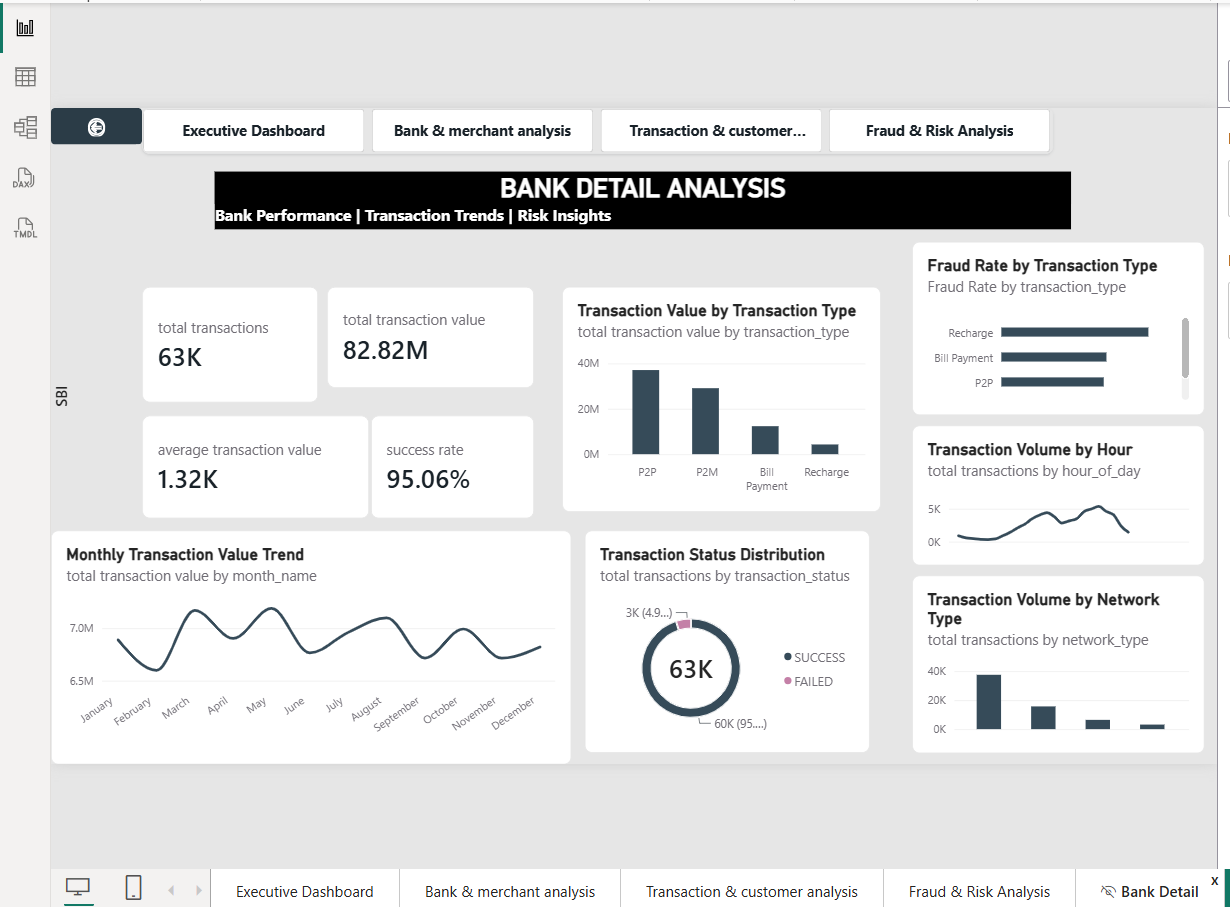

The dashboard page shown, as its layout file describes it:
{"tool":"powerbi","page":{"name":"Bank Detail","canvas":[1280,720],"ordinal":4},"visuals":[{"type":"actionButton","box":[0,0,100,40],"z":0},{"type":"shape","title":"BANK DETAIL ANALYSIS","box":[179.8,70,940,63.1],"z":1000},{"type":"cardVisual","fields":{"Rows":["upi_transactions_cleaned.sender_bank"]},"box":[0,181.1,87.8,270.3],"z":2000},{"type":"cardVisual","fields":{"Data":["upi_transactions_cleaned.total transactions"]},"box":[100.2,196.2,193.5,127.6],"z":3000},{"type":"cardVisual","fields":{"Data":["upi_transactions_cleaned.total transaction value"]},"box":[303.3,196.2,227.8,111.1],"z":4000},{"type":"cardVisual","fields":{"Data":["upi_transactions_cleaned.average transaction value"]},"box":[100.2,337.6,249.7,113.9],"z":5000},{"type":"cardVisual","fields":{"Data":["upi_transactions_cleaned.success rate"]},"box":[351.3,337.6,179.8,113.9],"z":6000},{"type":"actionButton","box":[0,0,100,40],"z":7000},{"type":"lineChart","title":"Monthly Transaction Value Trend","fields":{"Category":["upi_transactions_cleaned.month_name"],"Y":["upi_transactions_cleaned.total transaction value"]},"box":[0,463.8,570.8,256.6],"z":8000},{"type":"donutChart","title":"Transaction Status Distribution","fields":{"Category":["upi_transactions_cleaned.transaction_status"],"Y":["upi_transactions_cleaned.total transactions"]},"box":[585.9,463.8,312.9,244.3],"z":9000},{"type":"clusteredColumnChart","title":"Transaction Value by Transaction Type","fields":{"Category":["upi_transactions_cleaned.transaction_type"],"Y":["upi_transactions_cleaned.total transaction value"]},"box":[561.2,196.2,349.9,247],"z":10000},{"type":"lineChart","title":"Transaction Volume by Hour","fields":{"Category":["upi_transactions_cleaned.hour_of_day"],"Y":["upi_transactions_cleaned.total transactions"]},"box":[945.5,348.5,321.1,153.7],"z":11000},{"type":"barChart","title":"Fraud Rate by Transaction Type","fields":{"Category":["upi_transactions_cleaned.transaction_type"],"Y":["upi_transactions_cleaned.Fraud Rate"]},"box":[945.5,146.8,321.1,190.7],"z":12000},{"type":"clusteredColumnChart","title":"Transaction Volume by Network Type","fields":{"Category":["upi_transactions_cleaned.network_type"],"Y":["upi_transactions_cleaned.total transactions"]},"box":[945.5,513.2,321.1,194.9],"z":13000},{"type":"pageNavigator","box":[100.2,0,1000,50],"z":14000}]}

Visuals, with their boxes on the page's 1280x720 design canvas (x1, y1, x2, y2). These are canvas units, not pixel positions in the 1230x907 screenshot, which may show the page scaled, cropped or inside an application window:
actionButton: (0, 0, 100, 40)
"BANK DETAIL ANALYSIS" shape: (180, 70, 1120, 133)
cardVisual - upi_transactions_cleaned.sender_bank: (0, 181, 88, 451)
cardVisual - upi_transactions_cleaned.total transactions: (100, 196, 294, 324)
cardVisual - upi_transactions_cleaned.total transaction value: (303, 196, 531, 307)
cardVisual - upi_transactions_cleaned.average transaction value: (100, 338, 350, 452)
cardVisual - upi_transactions_cleaned.success rate: (351, 338, 531, 452)
actionButton: (0, 0, 100, 40)
"Monthly Transaction Value Trend" lineChart: (0, 464, 571, 720)
"Transaction Status Distribution" donutChart: (586, 464, 899, 708)
"Transaction Value by Transaction Type" clusteredColumnChart: (561, 196, 911, 443)
"Transaction Volume by Hour" lineChart: (946, 348, 1267, 502)
"Fraud Rate by Transaction Type" barChart: (946, 147, 1267, 338)
"Transaction Volume by Network Type" clusteredColumnChart: (946, 513, 1267, 708)
pageNavigator: (100, 0, 1100, 50)
